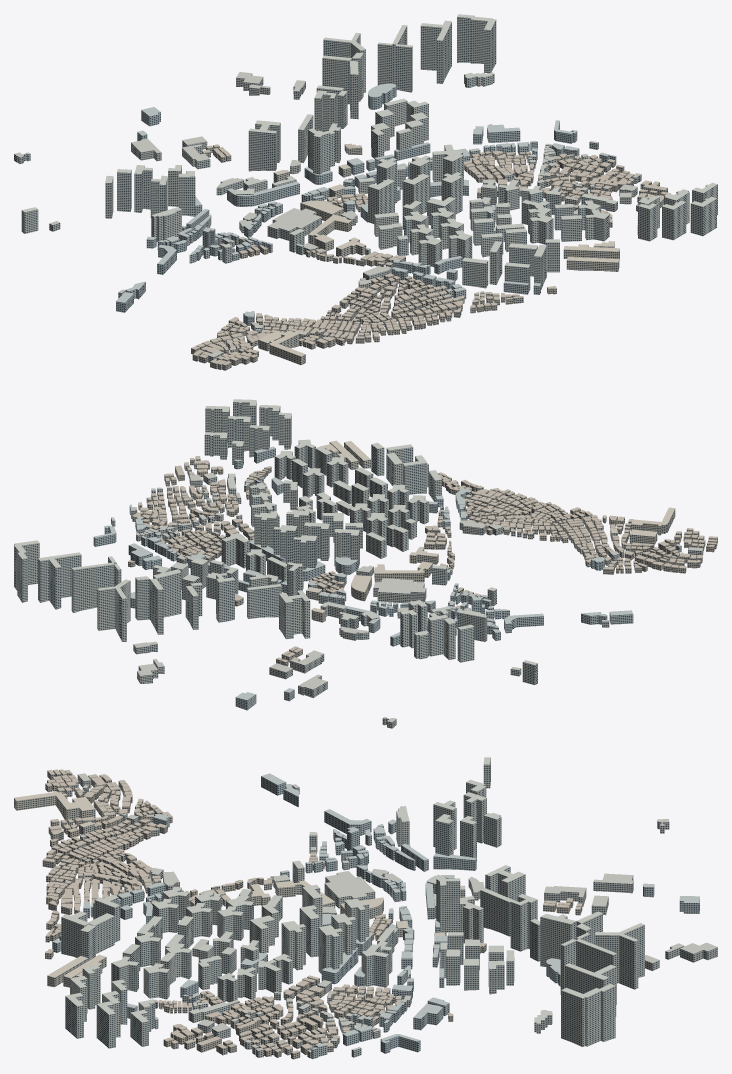
Rendered from city_-7_4.glb.
3 views of the same model, one above another, from view 1: azimuth 30°, elevation 25°; view 2: azimuth 150°, elevation 25°; view 3: azimuth 270°, elevation 25° (orthographic). The views are drawn at different scales.
Size of the model in its own units: 1036 by 128 by 1074.
5 materials, 5 textured.
